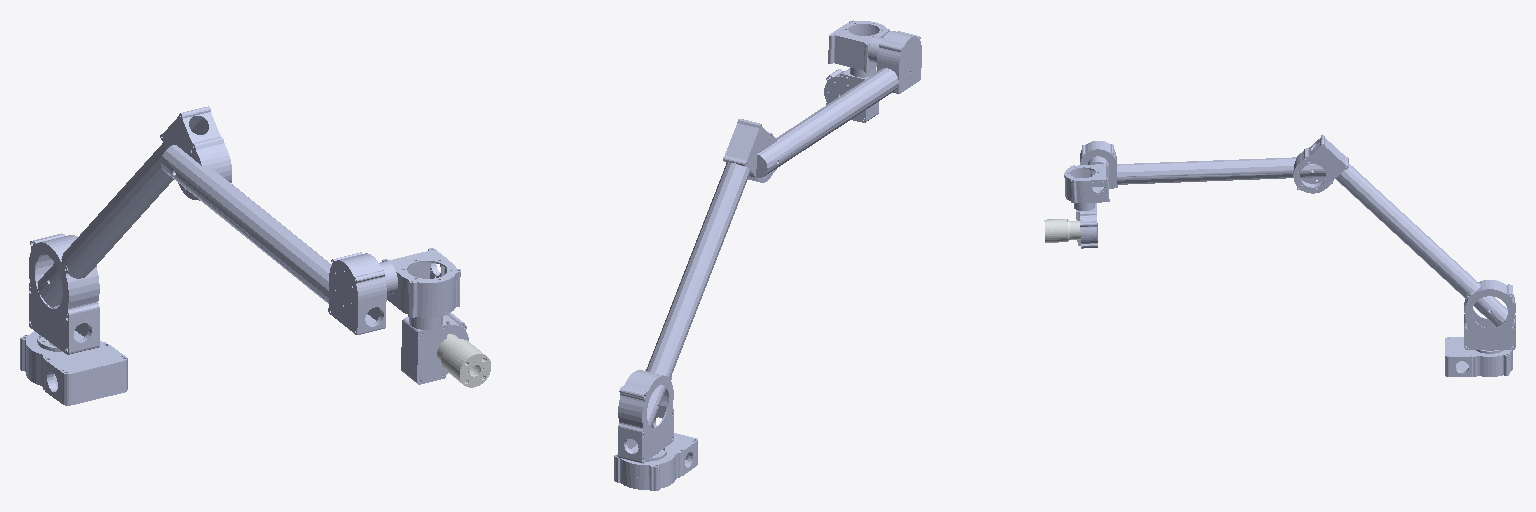
URDF robot description (arm_description):
<?xml version="1.0" encoding="utf-8"?>
<robot
  name="arm_description">
  <link
    name="base_link">
    <inertial>
      <origin
        xyz="0.055 0.028511 -0.07071"
        rpy="0 0 0" />
      <mass
        value="0.22424" />
      <inertia
        ixx="7.7027E-05"
        ixy="-7.7862E-10"
        ixz="1.2126E-11"
        iyy="1.8678E-08"
        iyz="1.1993E-06"
        izz="7.7008E-05" />
    </inertial>
    <visual>
      <origin
        xyz="0 0 0"
        rpy="0 0 0" />
      <geometry>
        <mesh
          filename="package://arm_description/meshes/base_link.STL" />
      </geometry>
      <material
        name="">
        <color
          rgba="0.79216 0.81961 0.93333 1" />
      </material>
    </visual>
    <collision>
      <origin
        xyz="0 0 0"
        rpy="0 0 0" />
      <geometry>
        <mesh
          filename="package://arm_description/meshes/base_link.STL" />
      </geometry>
    </collision>
  </link>
  <link
    name="link1">
    <inertial>
      <origin
        xyz="0 -0.0739919805157646 0.00271975586057593"
        rpy="0 0 0" />
      <mass
        value="0.182986637355482" />
      <inertia
        ixx="5.07035262766674E-05"
        ixy="-5.7804934701686E-36"
        ixz="-3.00926553810506E-36"
        iyy="5.07035140384701E-05"
        iyz="-2.49102309629053E-08"
        izz="1.22381972609331E-11" />
    </inertial>
    <visual>
      <origin
        xyz="0 0 0"
        rpy="0 0 0" />
      <geometry>
        <mesh
          filename="package://arm_description/meshes/link1.STL" />
      </geometry>
      <material
        name="">
        <color
          rgba="0.792156862745098 0.819607843137255 0.933333333333333 1" />
      </material>
    </visual>
    <collision>
      <origin
        xyz="0 0 0"
        rpy="0 0 0" />
      <geometry>
        <mesh
          filename="package://arm_description/meshes/link1.STL" />
      </geometry>
    </collision>
  </link>
  <joint
    name="joint1"
    type="fixed">
    <origin
      xyz="0.055 0.105 0.058"
      rpy="-1.5708 -6.123E-17 -1.5708" />
    <parent
      link="base_link" />
    <child
      link="link1" />
    <axis
      xyz="0 0 0" />
    <limit
      lower="0"
      upper="0"
      effort="0"
      velocity="0" />
  </joint>
  <link
    name="link2">
    <inertial>
      <origin
        xyz="9.33241508168856E-05 0.00299946771656848 0.259411152659096"
        rpy="0 0 0" />
      <mass
        value="1.15891412192705" />
      <inertia
        ixx="0.0111825942364729"
        ixy="-5.55073320858682E-06"
        ixz="-3.05436312530767E-05"
        iyy="0.0111279753691321"
        iyz="-0.000981966973855911"
        izz="0.000119692663406029" />
    </inertial>
    <visual>
      <origin
        xyz="0 0 0"
        rpy="0 0 0" />
      <geometry>
        <mesh
          filename="package://arm_description/meshes/link2.STL" />
      </geometry>
      <material
        name="">
        <color
          rgba="0.792156862745098 0.819607843137255 0.933333333333333 1" />
      </material>
    </visual>
    <collision>
      <origin
        xyz="0 0 0"
        rpy="0 0 0" />
      <geometry>
        <mesh
          filename="package://arm_description/meshes/link2.STL" />
      </geometry>
    </collision>
  </link>
  <joint
    name="joint2"
    type="fixed">
    <origin
      xyz="0 -0.0975 0.0005"
      rpy="0.79351 1.5708 0" />
    <parent
      link="link1" />
    <child
      link="link2" />
    <axis
      xyz="0 0 0" />
    <limit
      lower="0"
      upper="0"
      effort="0"
      velocity="0" />
  </joint>
  <link
    name="link3">
    <inertial>
      <origin
        xyz="-0.000140175541839031 0.00170047101330162 0.234927029132246"
        rpy="0 0 0" />
      <mass
        value="1.02508309667554" />
      <inertia
        ixx="0.00670385290809317"
        ixy="2.28986595994203E-06"
        ixz="3.85198283389387E-05"
        iyy="0.0066927920871593"
        iyz="-0.000467284157723462"
        izz="5.44173950353479E-05" />
    </inertial>
    <visual>
      <origin
        xyz="0 0 0"
        rpy="0 0 0" />
      <geometry>
        <mesh
          filename="package://arm_description/meshes/link3.STL" />
      </geometry>
      <material
        name="">
        <color
          rgba="0.792156862745098 0.819607843137255 0.933333333333333 1" />
      </material>
    </visual>
    <collision>
      <origin
        xyz="0 0 0"
        rpy="0 0 0" />
      <geometry>
        <mesh
          filename="package://arm_description/meshes/link3.STL" />
      </geometry>
    </collision>
  </link>
  <joint
    name="joint3"
    type="fixed">
    <origin
      xyz="0.0245 0.0495 0.5419"
      rpy="0.83549 0 3.1416" />
    <parent
      link="link2" />
    <child
      link="link3" />
    <axis
      xyz="0 0 0" />
    <limit
      lower="0"
      upper="0"
      effort="0"
      velocity="0" />
  </joint>
  <link
    name="link4">
    <inertial>
      <origin
        xyz="-0.00777696008671636 0.0133698565418885 0.0217435569521924"
        rpy="0 0 0" />
      <mass
        value="0.156151945009422" />
      <inertia
        ixx="0.000144754550332641"
        ixy="7.79257165420568E-06"
        ixz="2.70279457994691E-05"
        iyy="0.000161381553572215"
        iyz="-4.64654238794142E-05"
        izz="5.07399528097395E-05" />
    </inertial>
    <visual>
      <origin
        xyz="0 0 0"
        rpy="0 0 0" />
      <geometry>
        <mesh
          filename="package://arm_description/meshes/link4.STL" />
      </geometry>
      <material
        name="">
        <color
          rgba="0.792156862745098 0.819607843137255 0.933333333333333 1" />
      </material>
    </visual>
    <collision>
      <origin
        xyz="0 0 0"
        rpy="0 0 0" />
      <geometry>
        <mesh
          filename="package://arm_description/meshes/link4.STL" />
      </geometry>
    </collision>
  </link>
  <joint
    name="joint4"
    type="fixed">
    <origin
      xyz="0.0545 0.0355 0.503"
      rpy="1.5708 -6.9389E-18 1.5708" />
    <parent
      link="link3" />
    <child
      link="link4" />
    <axis
      xyz="0 0 0" />
    <limit
      lower="0"
      upper="0"
      effort="0"
      velocity="0" />
  </joint>
  <link
    name="link5">
    <inertial>
      <origin
        xyz="0.00423182736021133 0.00932384755029578 0.0219997086154421"
        rpy="0 0 0" />
      <mass
        value="0.153675066385186" />
      <inertia
        ixx="0.000139507770793874"
        ixy="-6.79284298637698E-06"
        ixz="-1.49610183548401E-05"
        iyy="0.000153128185473876"
        iyz="-3.29523444537476E-05"
        izz="3.11132836113075E-05" />
    </inertial>
    <visual>
      <origin
        xyz="0 0 0"
        rpy="0 0 0" />
      <geometry>
        <mesh
          filename="package://arm_description/meshes/link5.STL" />
      </geometry>
      <material
        name="">
        <color
          rgba="0.792156862745098 0.819607843137255 0.933333333333333 1" />
      </material>
    </visual>
    <collision>
      <origin
        xyz="0 0 0"
        rpy="0 0 0" />
      <geometry>
        <mesh
          filename="package://arm_description/meshes/link5.STL" />
      </geometry>
    </collision>
  </link>
  <joint
    name="joint5"
    type="fixed">
    <origin
      xyz="-0.07 0.035 0.044"
      rpy="1.5708 0 -1.5708" />
    <parent
      link="link4" />
    <child
      link="link5" />
    <axis
      xyz="0 0 0" />
    <limit
      lower="0"
      upper="0"
      effort="0"
      velocity="0" />
  </joint>
  <link
    name="link6">
    <inertial>
      <origin
        xyz="2.77555756156289E-17 1.11022302462516E-16 0.0181583763254755"
        rpy="0 0 0" />
      <mass
        value="0.299295530441066" />
      <inertia
        ixx="0"
        ixy="0"
        ixz="0"
        iyy="0"
        iyz="0"
        izz="0" />
    </inertial>
    <visual>
      <origin
        xyz="0 0 0"
        rpy="0 0 0" />
      <geometry>
        <mesh
          filename="package://arm_description/meshes/link6.STL" />
      </geometry>
      <material
        name="">
        <color
          rgba="0.898039215686275 0.917647058823529 0.929411764705882 1" />
      </material>
    </visual>
    <collision>
      <origin
        xyz="0 0 0"
        rpy="0 0 0" />
      <geometry>
        <mesh
          filename="package://arm_description/meshes/link6.STL" />
      </geometry>
    </collision>
  </link>
  <joint
    name="joint6"
    type="fixed">
    <origin
      xyz="-0.041 0.031 0.045"
      rpy="-1.5708 0 1.5708" />
    <parent
      link="link5" />
    <child
      link="link6" />
    <axis
      xyz="0 0 0" />
    <limit
      lower="0"
      upper="0"
      effort="0"
      velocity="0" />
  </joint>
</robot>

--- What the picture shows (computed from the rendered views, not written in the file) ---
The picture shows the robot from 3 angles, left to right: view 1: azimuth 30°, elevation 25°; view 2: azimuth 150°, elevation 25°; view 3: azimuth 270°, elevation 25°; orthographic projection.
Model arm_description with 7 links and 6 joints (6 fixed), rooted at base_link, posed all joints at 0.
Links seen in each view (by area): view 1: link3, link2, link1, base_link, link4, link5, link6; view 2: link2, link3, link1, base_link, link4, link5; view 3: link2, link3, link1, base_link, link4, link5, link6.
Boxes of the visible links, x1,y1,x2,y2 form: link3: [161, 145, 386, 334]; link2: [38, 106, 231, 306]; link1: [29, 233, 99, 354]; base_link: [20, 331, 127, 405]; link4: [379, 248, 460, 317]; link5: [401, 313, 468, 384]; link6: [437, 334, 490, 387]; link2: [646, 119, 776, 426]; link3: [756, 31, 921, 177]; link1: [618, 369, 673, 463]; base_link: [614, 433, 697, 490]; link4: [828, 20, 889, 72]; link5: [824, 67, 878, 122]; link2: [1293, 135, 1507, 326]; link3: [1080, 141, 1325, 188]; link1: [1464, 280, 1515, 349]; base_link: [1445, 337, 1512, 376]; link4: [1064, 156, 1109, 203]; link5: [1074, 203, 1097, 248]; link6: [1044, 219, 1080, 242].
Bounding box of the posed robot: 0.1979 × 1.11 × 0.5903 m (x, y, z).
Meshes: 7 distinct files referenced, 7 mesh visuals loaded (7 binary STL).